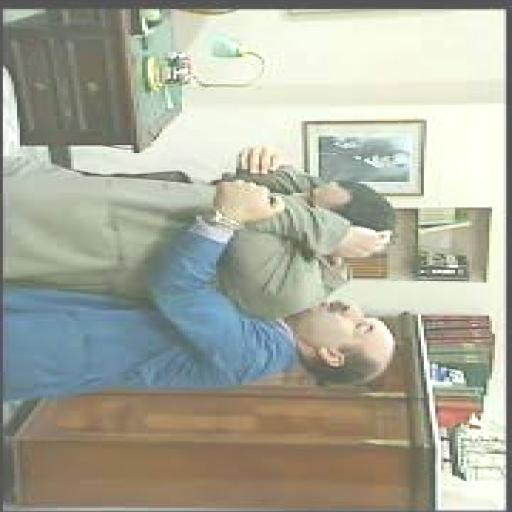beji_matrix: (287, 299, 395, 370)
slimane: (293, 173, 356, 240), (327, 246, 353, 254)
